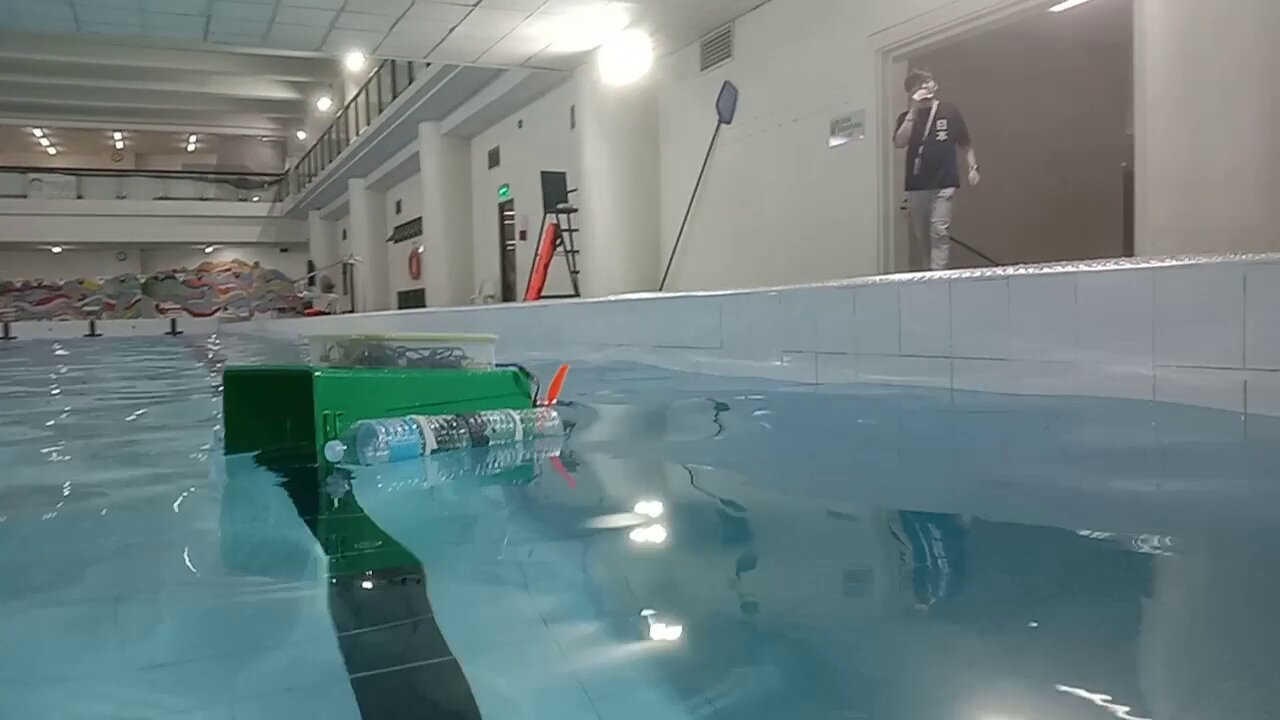drone: (222, 335, 569, 466)
